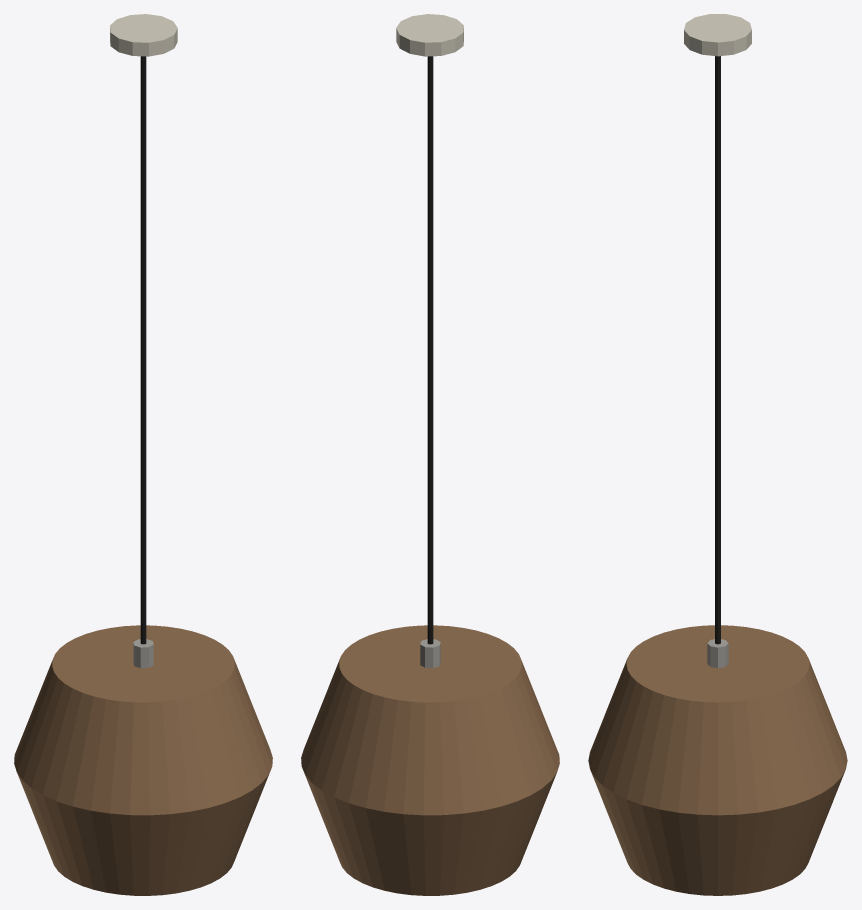
Rendered from paper-lantern-pendant.glb.
The picture shows the model from 3 angles, left to right: view 1: azimuth 30°, elevation 25°; view 2: azimuth 150°, elevation 25°; view 3: azimuth 270°, elevation 25°; orthographic projection.
Visible parts, largest first — view 1: shade, rubber, enamel, brushed; view 2: shade, rubber, enamel, brushed; view 3: shade, rubber, enamel, brushed.
Part boxes in pixels (x1,y1,x2,y2): shade: (14, 625, 272, 895); rubber: (140, 56, 146, 644); enamel: (110, 14, 177, 56); brushed: (133, 639, 153, 668); shade: (301, 625, 559, 895); rubber: (427, 56, 433, 644); enamel: (396, 14, 463, 56); brushed: (420, 639, 440, 668); shade: (588, 625, 847, 895); rubber: (715, 56, 720, 644); enamel: (684, 14, 751, 56); brushed: (707, 639, 728, 668).
Size of the model in its own units: 0.34 by 1.2 by 0.34.
